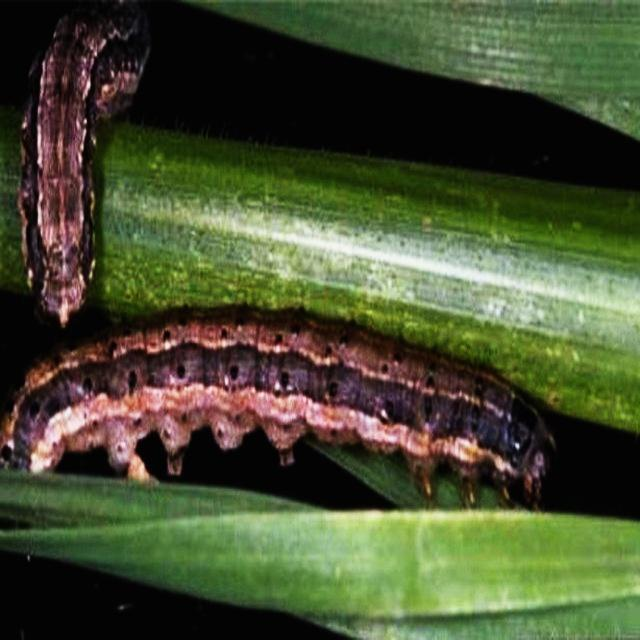gusano_cogollero: (0, 308, 562, 500), (23, 33, 120, 325)
